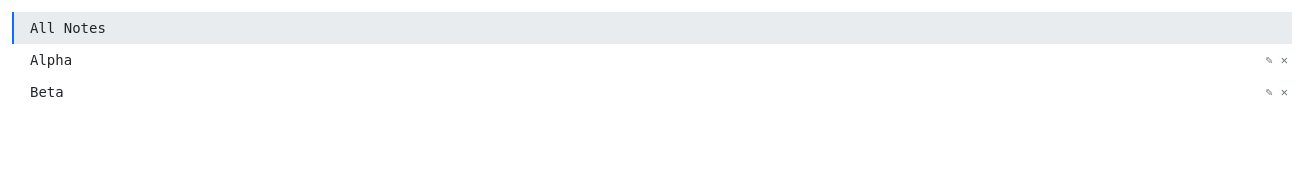
Test: FolderTree (TASK-017) › rename flow › hides the rename form after successful rename
Click the button with test id "folder-rename-button-folder-1" at (1269, 60), box [1262, 48, 1277, 72]
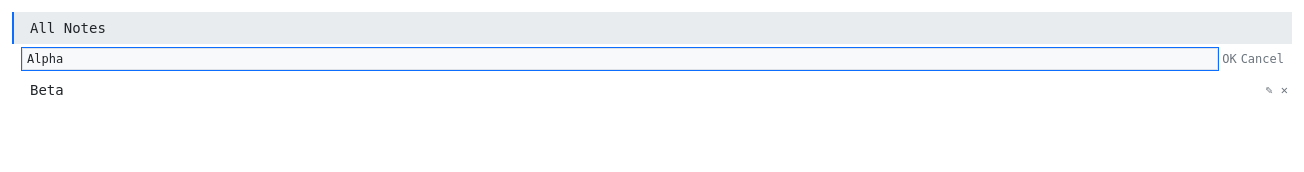
Replace the text in the field with test id "folder-rename-input-folder-1" with "Renamed" at (620, 59), box [22, 48, 1218, 70]
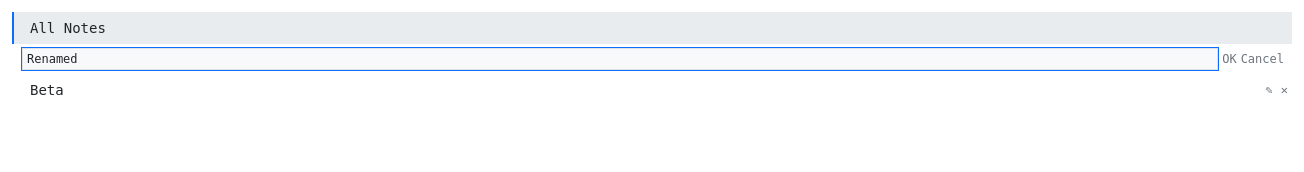
Click the button with test id "folder-rename-submit-folder-1" at (1229, 59), box [1222, 51, 1237, 67]
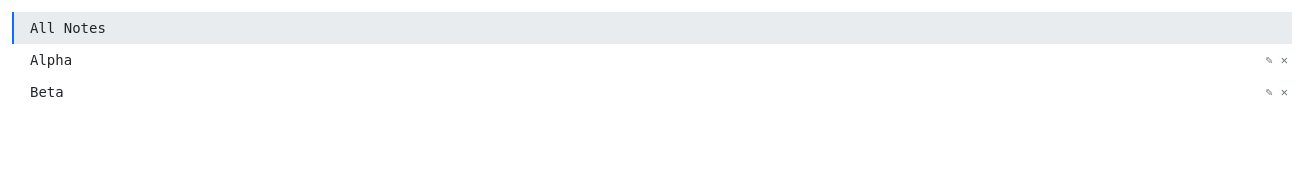
Expected: the field with test id "folder-rename-input-folder-1" is gone
